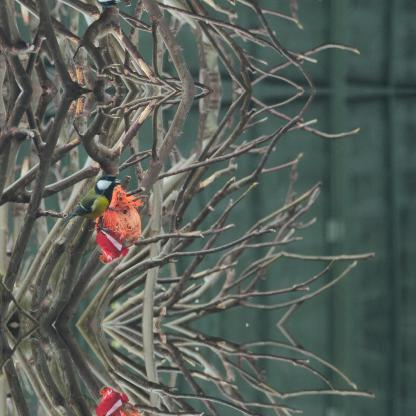Bird: (59, 175, 123, 235)
